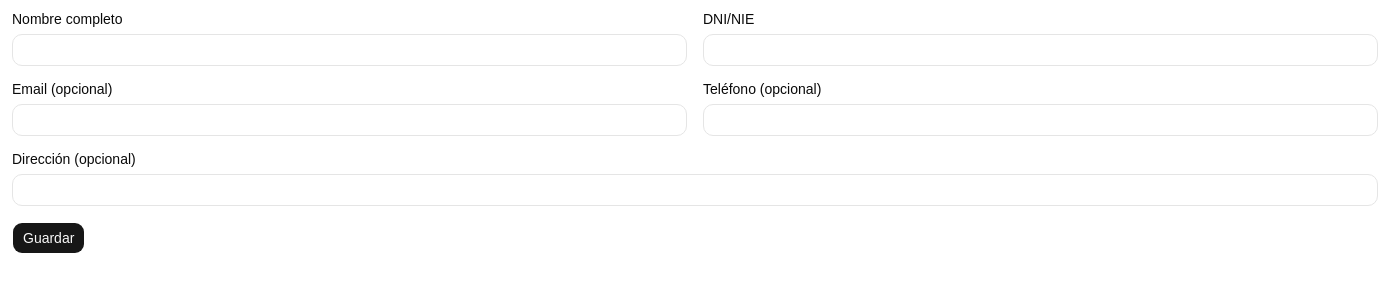
Test: DonorForm › shows validation errors on empty submit
Click the button "Guardar": (49, 238) [12, 222, 85, 254]
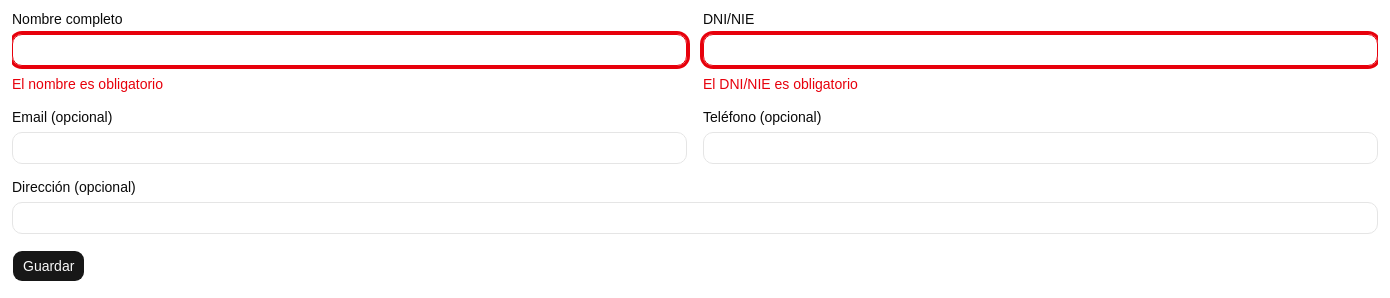
Expected: the text "El nombre es obligatorio" is shown, [12, 76, 163, 92]
Expected: the text "El DNI/NIE es obligatorio" is shown, [703, 76, 858, 92]
